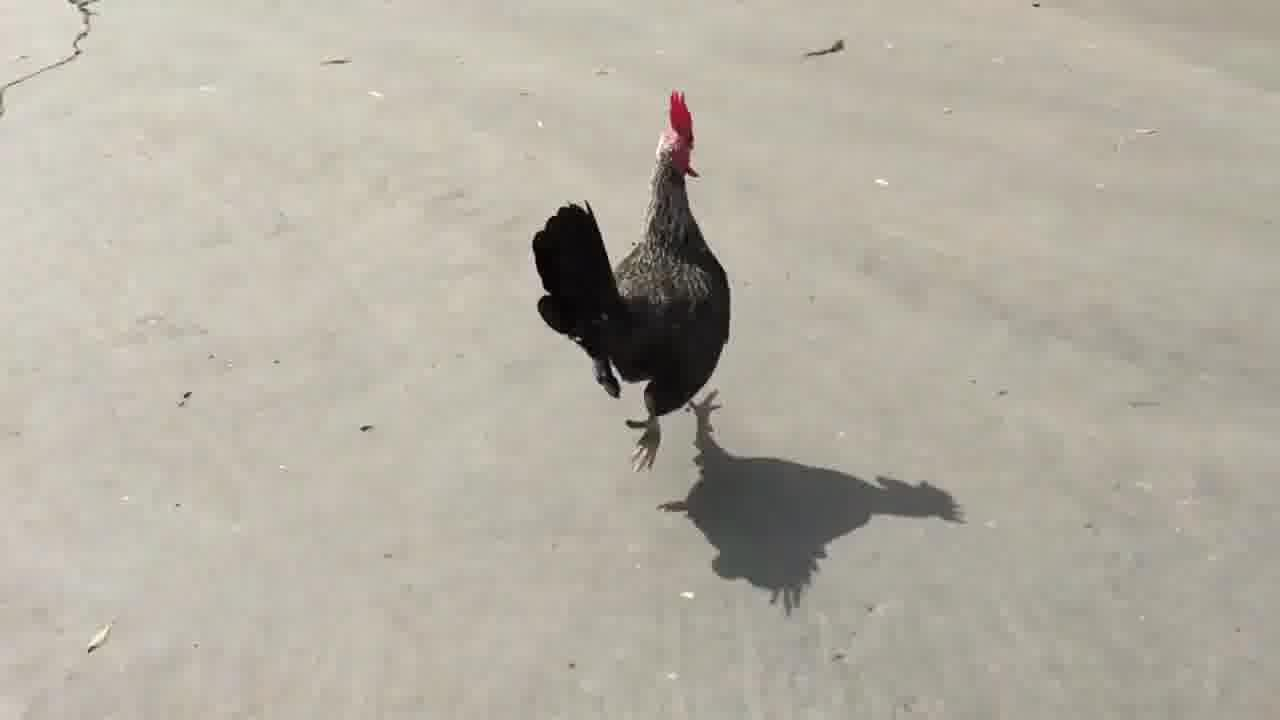Normal: (514, 78, 726, 458)
